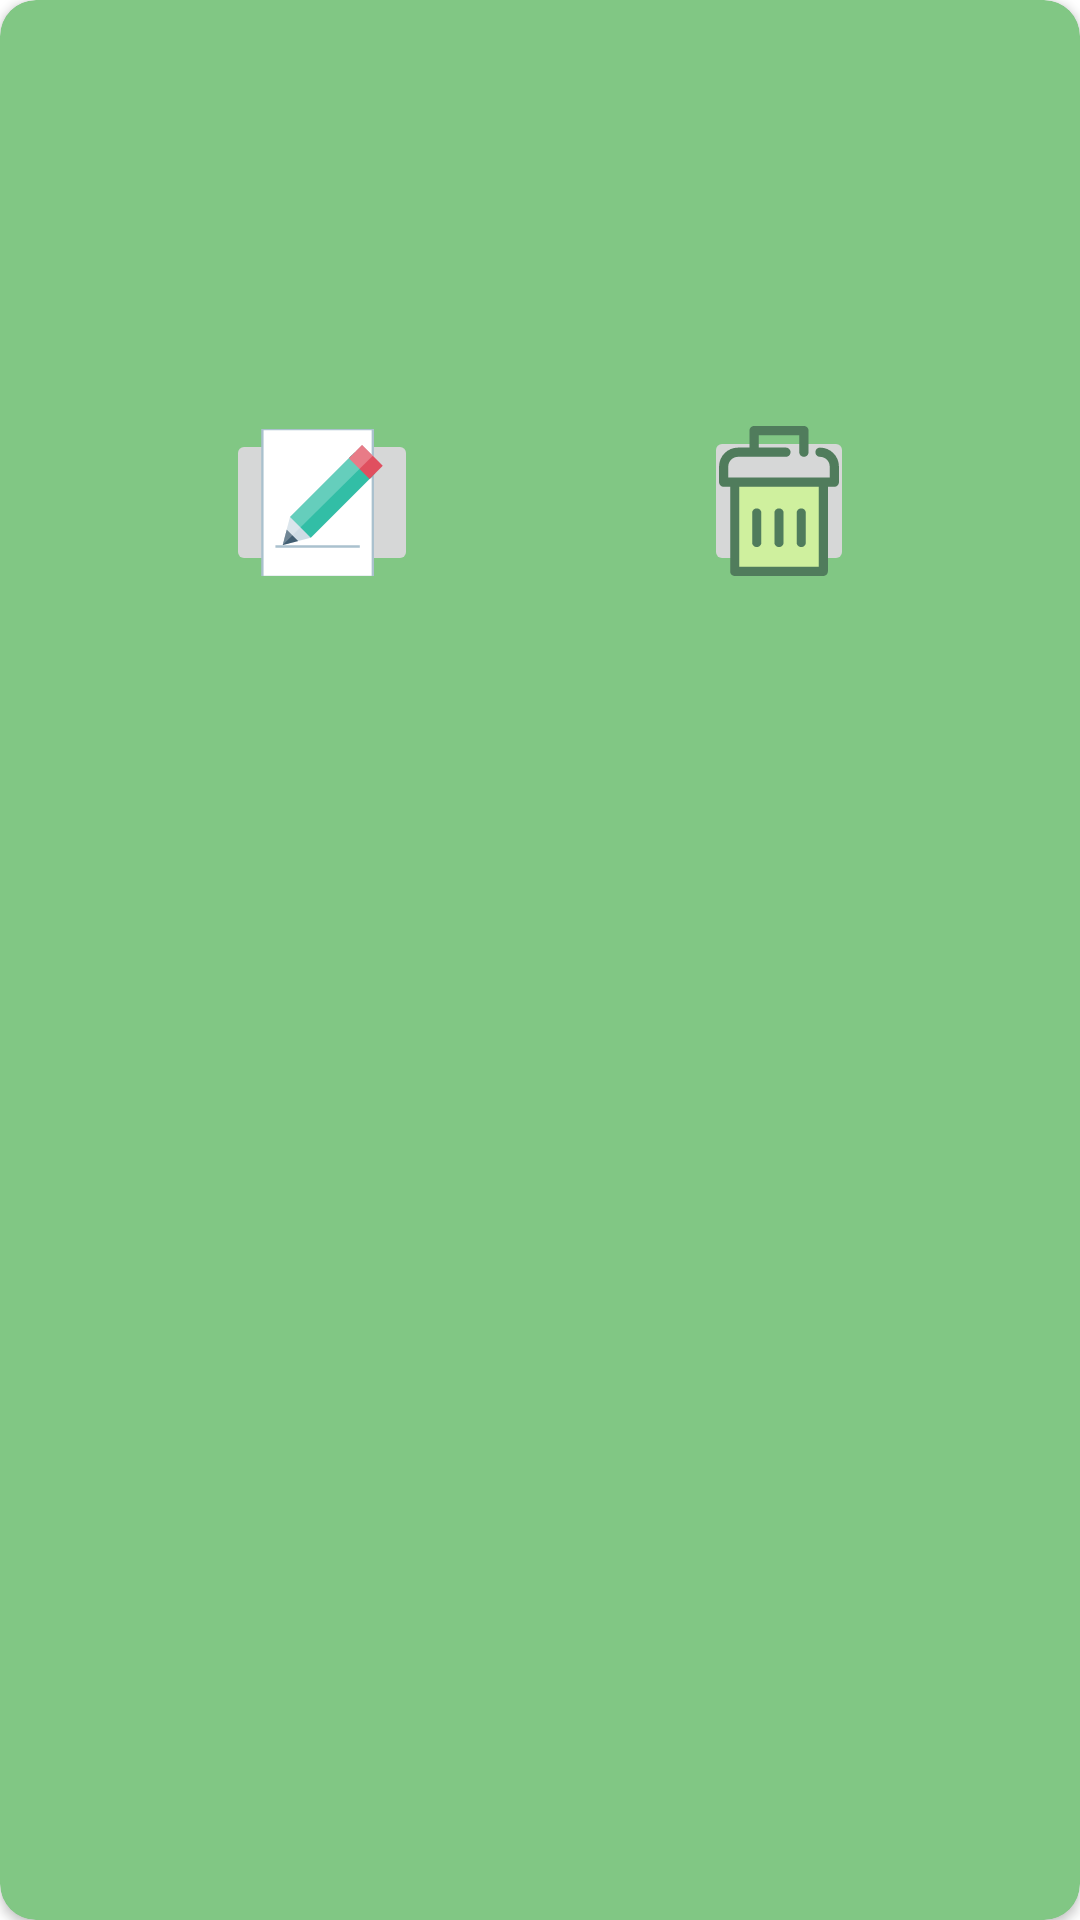

Locate icon controls on the screen. Image size 1080x1920, boxes as [x1=x1, y1=y1, x2=x2, y2=y2].
delete: [x1=716, y1=426, x2=842, y2=576]
edit: [x1=238, y1=429, x2=406, y2=576]
